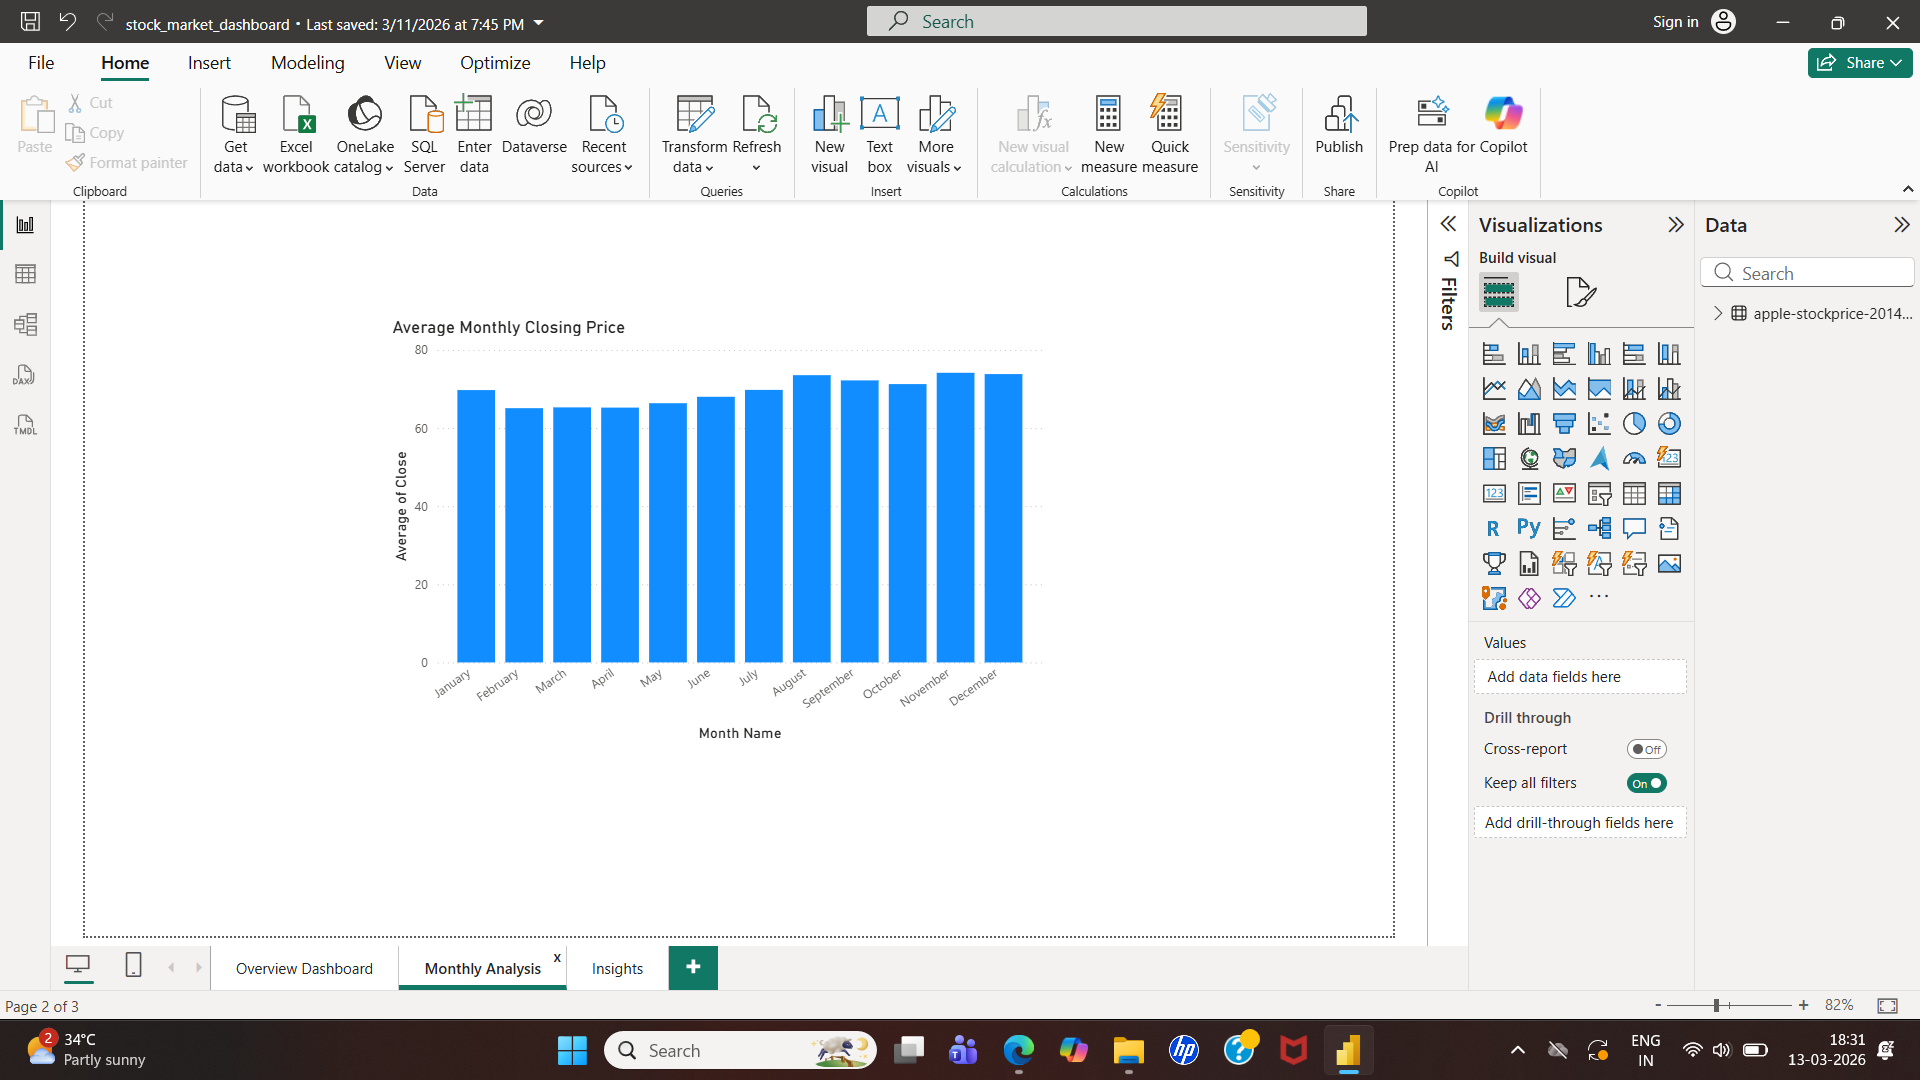

Layout of this report page (visuals, bound fields, positions):
{"tool":"powerbi","page":{"name":"Monthly Analysis","canvas":[1280,720],"ordinal":1},"visuals":[{"type":"clusteredColumnChart","title":"Average Monthly Closing Price ","fields":{"Y":["Avg(apple-stockprice-2014-2024.Close)"],"Category":["apple-stockprice-2014-2024.Month Name"]},"box":[296.4,113.9,569.5,384.2],"z":0}]}

Visuals, with their boxes on the page's 1280x720 design canvas (x1, y1, x2, y2). These are canvas units, not pixel positions in the 1920x1080 screenshot, which may show the page scaled, cropped or inside an application window:
"Average Monthly Closing Price " clusteredColumnChart: [296,114,866,498]
